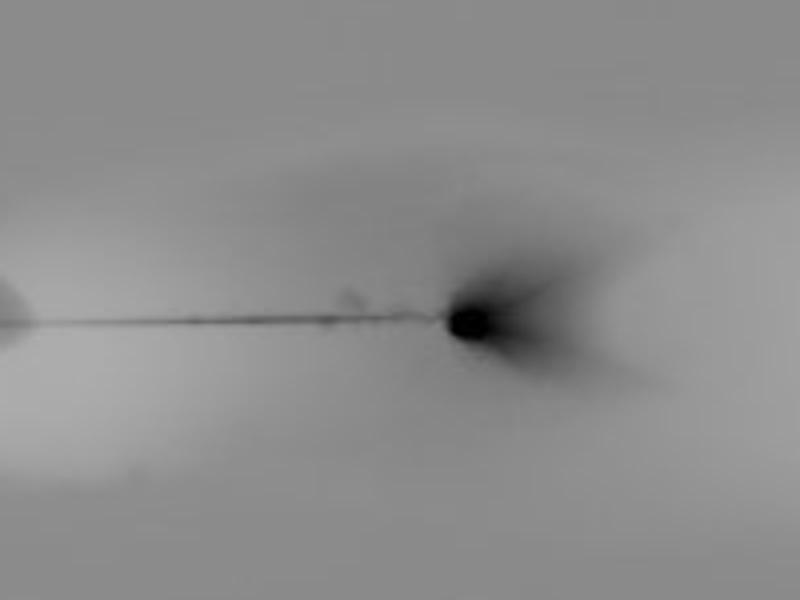defect: (444, 293, 507, 352)
